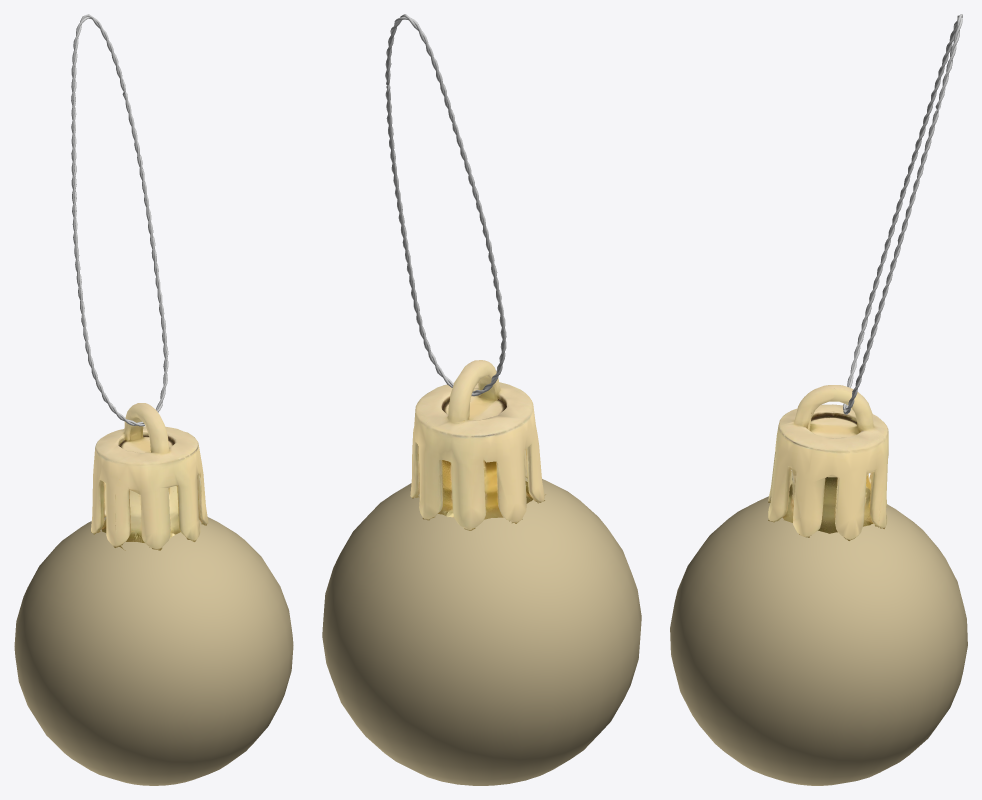
File: Golden_Orb_mat.glb
The picture shows the model from 3 angles, left to right: view 1: azimuth 30°, elevation 25°; view 2: azimuth 150°, elevation 25°; view 3: azimuth 270°, elevation 25°; orthographic projection. The views are drawn at different scales.
Parts seen in each view (by area): view 1: Sphere, GN Instance; view 2: Sphere, GN Instance; view 3: Sphere, GN Instance.
Boxes of the visible parts, <box> form: Sphere: <box>14,403,293,785</box>; GN Instance: <box>71,14,168,426</box>; Sphere: <box>322,360,641,785</box>; GN Instance: <box>385,14,506,396</box>; Sphere: <box>670,385,967,785</box>; GN Instance: <box>843,14,962,414</box>.
Size of the model in its own units: 0.028 by 0.0783 by 0.0279.
3 materials, 1 textured.
